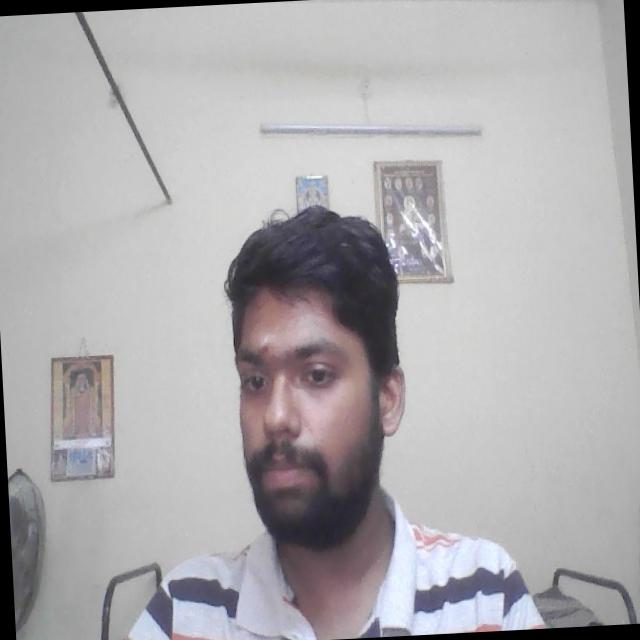Focused: (224, 306, 366, 513)
